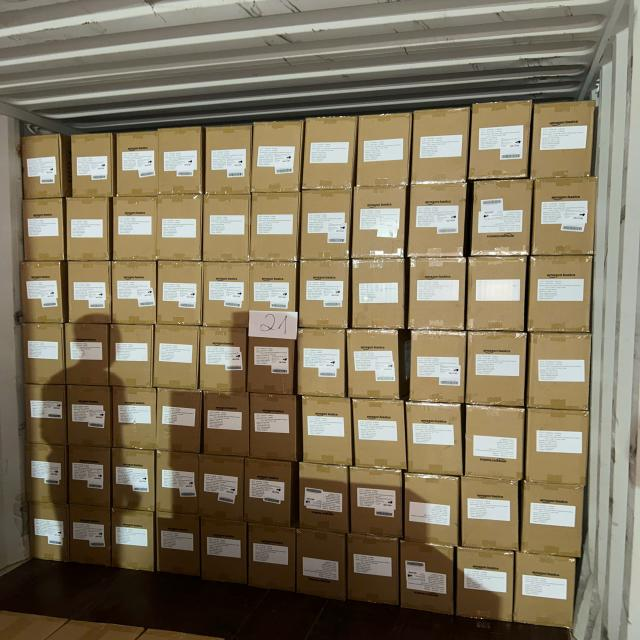Carton: (530, 255, 596, 333), (534, 180, 598, 258), (524, 482, 588, 559), (531, 102, 594, 180), (529, 330, 591, 409), (528, 408, 592, 484), (518, 552, 580, 630), (469, 100, 530, 179), (470, 180, 531, 258), (466, 329, 526, 405), (467, 254, 526, 331), (467, 405, 525, 483), (463, 476, 522, 552), (458, 548, 517, 624), (411, 106, 468, 184), (406, 184, 465, 259), (406, 256, 464, 331), (407, 403, 465, 477), (401, 540, 456, 618), (410, 330, 466, 405), (405, 474, 460, 549), (352, 186, 407, 260), (347, 535, 401, 610), (348, 464, 402, 538), (352, 396, 406, 469), (346, 330, 400, 403), (356, 112, 409, 186), (351, 256, 405, 328), (302, 116, 354, 190), (302, 187, 353, 260), (254, 121, 303, 196), (301, 460, 351, 532), (299, 529, 349, 601), (300, 396, 350, 467), (298, 258, 348, 328), (296, 328, 346, 397), (203, 126, 250, 199), (252, 190, 300, 261), (250, 526, 298, 597), (245, 457, 292, 529), (250, 393, 298, 462), (204, 193, 252, 261), (200, 519, 247, 586), (158, 512, 203, 580), (199, 326, 246, 391), (160, 193, 205, 260), (158, 125, 201, 195), (202, 262, 249, 326), (202, 392, 249, 456), (114, 196, 159, 262), (66, 196, 111, 262), (160, 260, 206, 324), (64, 323, 110, 387), (113, 387, 159, 451), (112, 512, 158, 576), (158, 451, 203, 516), (113, 450, 158, 515), (201, 455, 245, 521), (157, 325, 202, 389), (159, 388, 204, 452), (21, 261, 66, 325), (67, 386, 112, 450), (112, 261, 157, 324), (65, 261, 109, 325), (22, 324, 66, 388), (116, 131, 158, 197), (111, 324, 154, 388), (24, 384, 67, 448), (70, 137, 113, 200), (69, 503, 111, 567), (250, 337, 297, 394), (68, 447, 111, 509), (24, 133, 64, 198), (21, 197, 62, 260), (251, 263, 298, 317), (24, 441, 64, 503), (32, 502, 72, 563)
